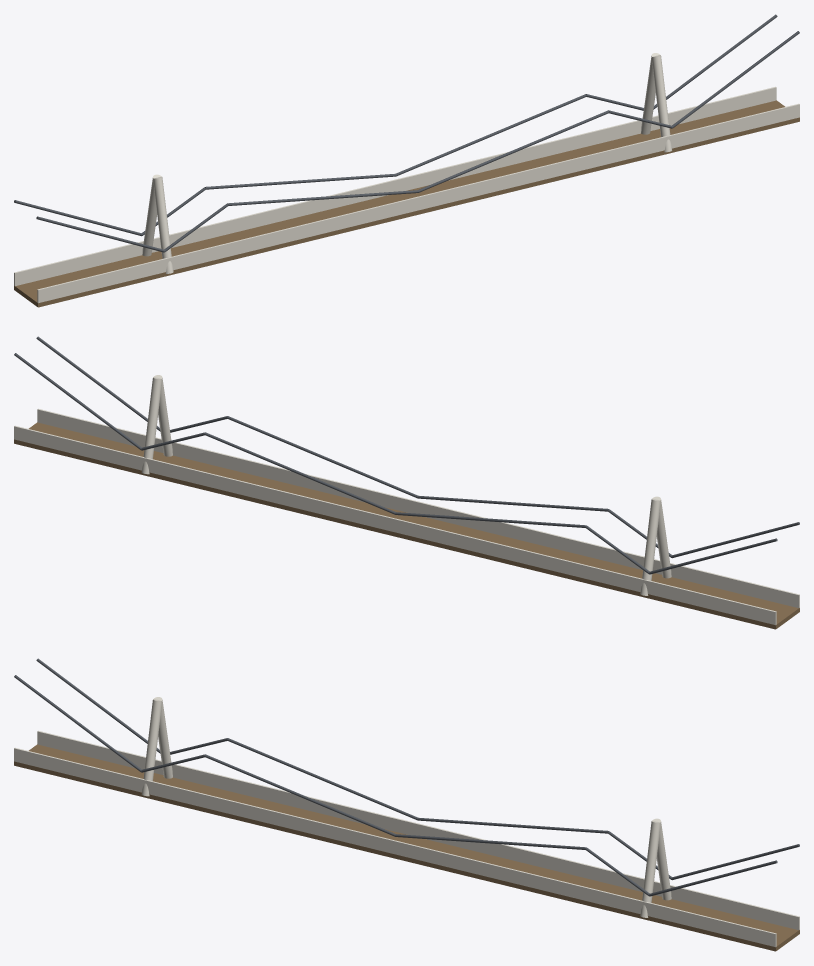
File: c06-bridge-foot-suspension.glb
The picture shows the model from 3 angles, top to bottom: view 1: azimuth 30°, elevation 25°; view 2: azimuth 150°, elevation 25°; view 3: azimuth 330°, elevation 25°; orthographic projection.
Visible parts, largest first — view 1: part30, part0, part29, part3, part1, part4, part2; view 2: part29, part0, part30, part4, part2, part3, part1; view 3: part30, part0, part29, part1, part3, part2, part4.
Part boxes in pixels (box(x1,y1,x2,y2)): part30: box(37, 103, 799, 303); part0: box(14, 100, 799, 307); part29: box(14, 86, 776, 286); part3: box(652, 55, 672, 152); part1: box(153, 176, 173, 273); part4: box(641, 53, 659, 134); part2: box(142, 174, 161, 256); part29: box(14, 425, 776, 625); part0: box(14, 422, 799, 629); part30: box(37, 408, 799, 608); part4: box(141, 377, 161, 474); part2: box(640, 498, 660, 595); part3: box(154, 375, 172, 456); part1: box(652, 496, 671, 578); part30: box(14, 747, 776, 947); part0: box(14, 744, 799, 951); part29: box(37, 730, 799, 930); part1: box(141, 699, 161, 796); part3: box(640, 820, 660, 917); part2: box(154, 697, 172, 778); part4: box(652, 818, 671, 900).
Size of the model in its own units: 55078 by 6232 by 3384.
